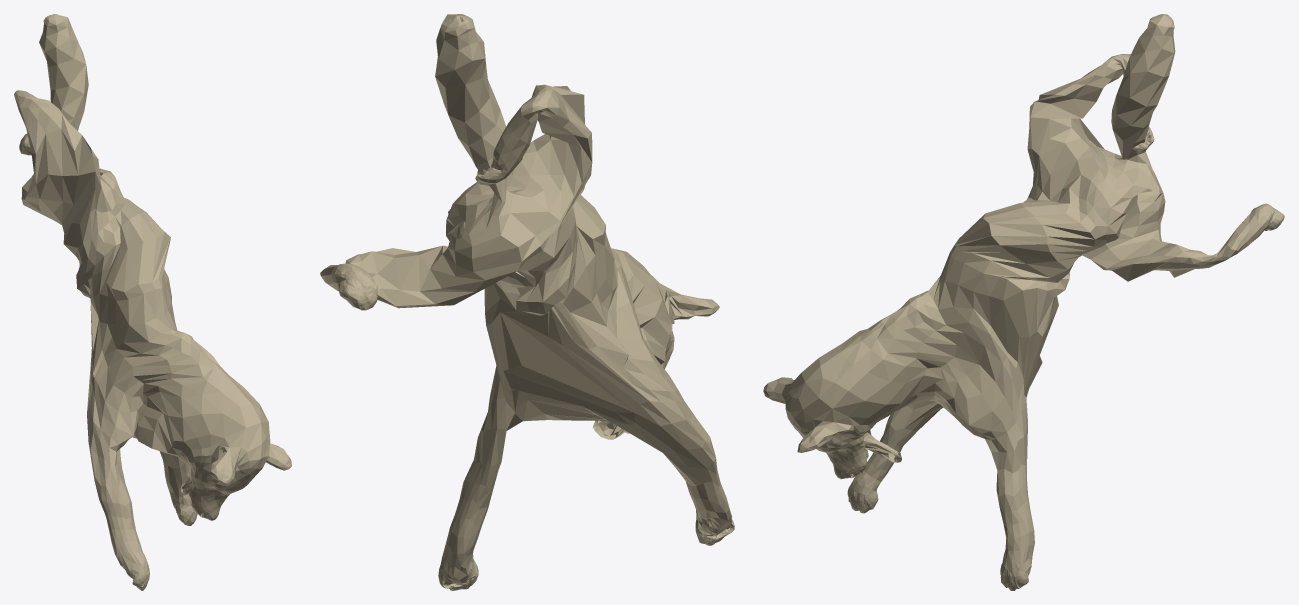
The picture shows the model from 3 angles, left to right: view 1: azimuth 30°, elevation 25°; view 2: azimuth 150°, elevation 25°; view 3: azimuth 270°, elevation 25°; orthographic projection. The views are drawn at different scales.
Visible parts, largest first — view 1: world; view 2: world; view 3: world.
Boxes of the visible parts, <box> form: world: <box>14,14,291,590</box>; world: <box>320,14,734,590</box>; world: <box>763,14,1284,590</box>.
Bounding box in the file's own units: 0.3817 × 1.19 × 1.05.
